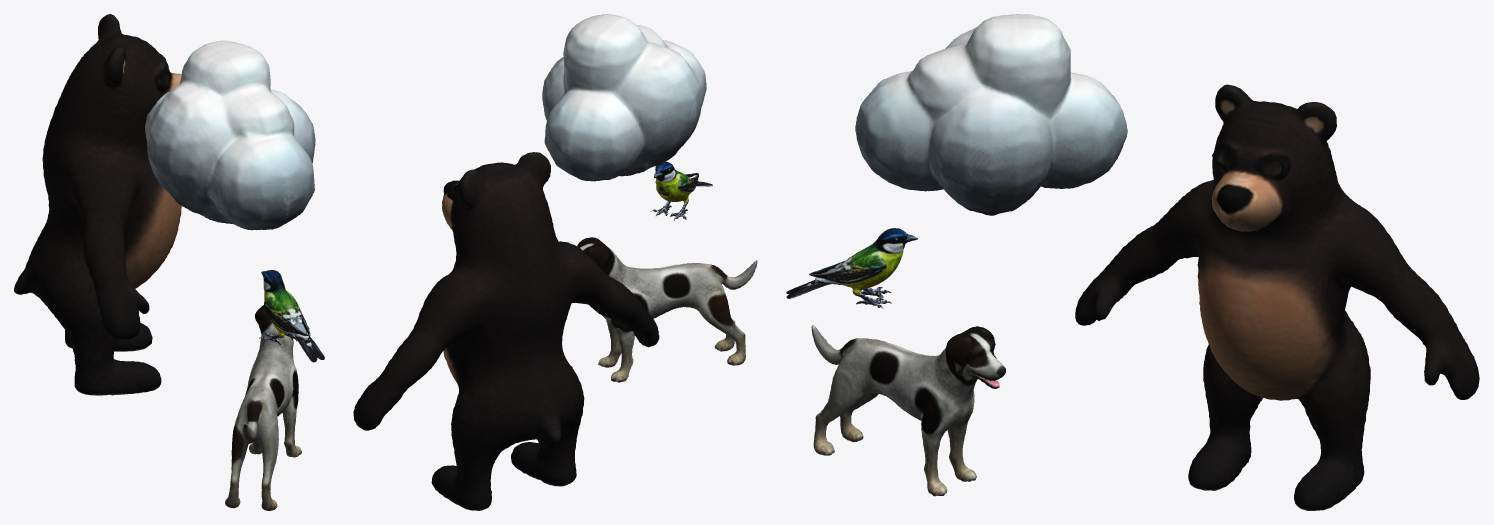
The model's file is bear1.glb.
The picture shows the model from 3 angles, left to right: view 1: azimuth 30°, elevation 25°; view 2: azimuth 150°, elevation 25°; view 3: azimuth 270°, elevation 25°; orthographic projection. The views are drawn at different scales.
Visible parts, largest first — view 1: Mesh_0.003, Mesh_0, Mesh_0.001, Mesh_0.002; view 2: Mesh_0.003, Mesh_0, Mesh_0.001, Mesh_0.002; view 3: Mesh_0.003, Mesh_0, Mesh_0.001, Mesh_0.002.
Part boxes in pixels (box(x1,y1,x2,y2)): Mesh_0.003: box(14, 14, 181, 395); Mesh_0: box(145, 40, 315, 230); Mesh_0.001: box(225, 305, 301, 510); Mesh_0.002: box(259, 270, 324, 362); Mesh_0.003: box(353, 152, 659, 510); Mesh_0: box(542, 14, 706, 181); Mesh_0.001: box(577, 237, 757, 382); Mesh_0.002: box(650, 161, 712, 220); Mesh_0.003: box(1075, 84, 1479, 510); Mesh_0: box(855, 14, 1127, 215); Mesh_0.001: box(811, 325, 1005, 496); Mesh_0.002: box(786, 228, 917, 308).
Bounding box in the file's own units: 11.8 × 27.78 × 37.65.
Materials: 4 (4 with a texture image).
